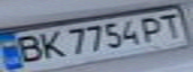4: (118, 17, 145, 47)
5: (103, 19, 127, 49)
7: (63, 25, 87, 56), (84, 21, 106, 53)
B: (6, 33, 48, 66)
K: (33, 28, 66, 61)
P: (136, 15, 169, 43)
T: (154, 11, 187, 38)
